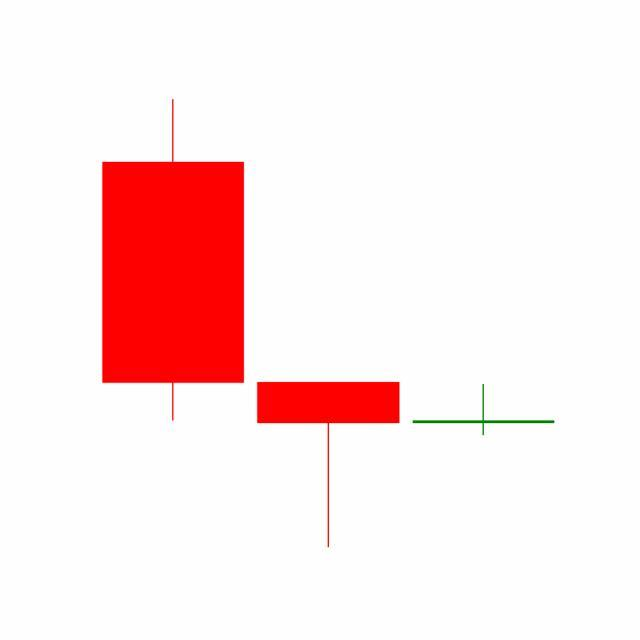Gravestone Doji: (406, 384, 562, 438)
